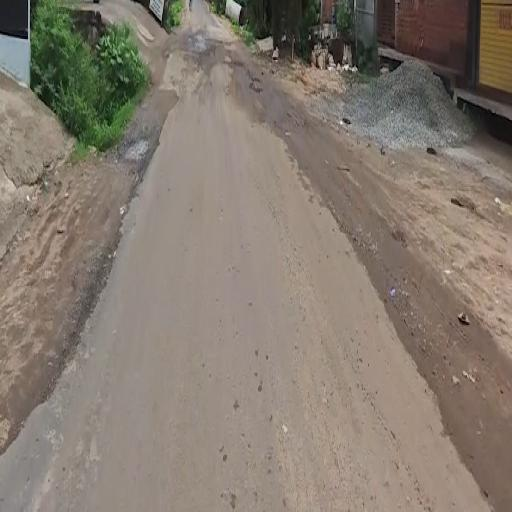edge_damage: (11, 115, 184, 479)
